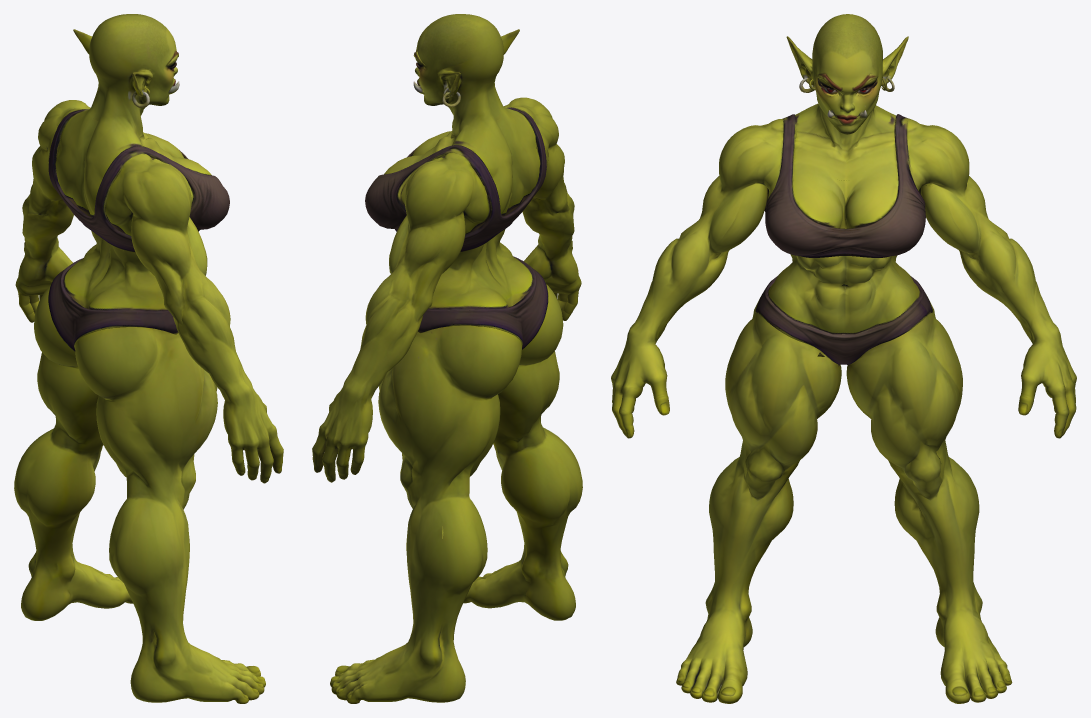
File: body-tripo.glb
3 renders of one model, left to right at view 1: azimuth 30°, elevation 25°; view 2: azimuth 150°, elevation 25°; view 3: azimuth 270°, elevation 25°, orthographic. The views are drawn at different scales.
Parts seen in each view (by area): view 1: a1fa21a9_42e9_4afe_a957_f7547a110d40; view 2: a1fa21a9_42e9_4afe_a957_f7547a110d40; view 3: a1fa21a9_42e9_4afe_a957_f7547a110d40.
Part boxes in pixels (x1=…): a1fa21a9_42e9_4afe_a957_f7547a110d40: x1=14, y1=14, x2=283, y2=703; a1fa21a9_42e9_4afe_a957_f7547a110d40: x1=312, y1=14, x2=582, y2=703; a1fa21a9_42e9_4afe_a957_f7547a110d40: x1=611, y1=14, x2=1076, y2=703.
Bounding box in the file's own units: 0.2378 × 0.9995 × 0.6479.
1 material, 1 textured.
